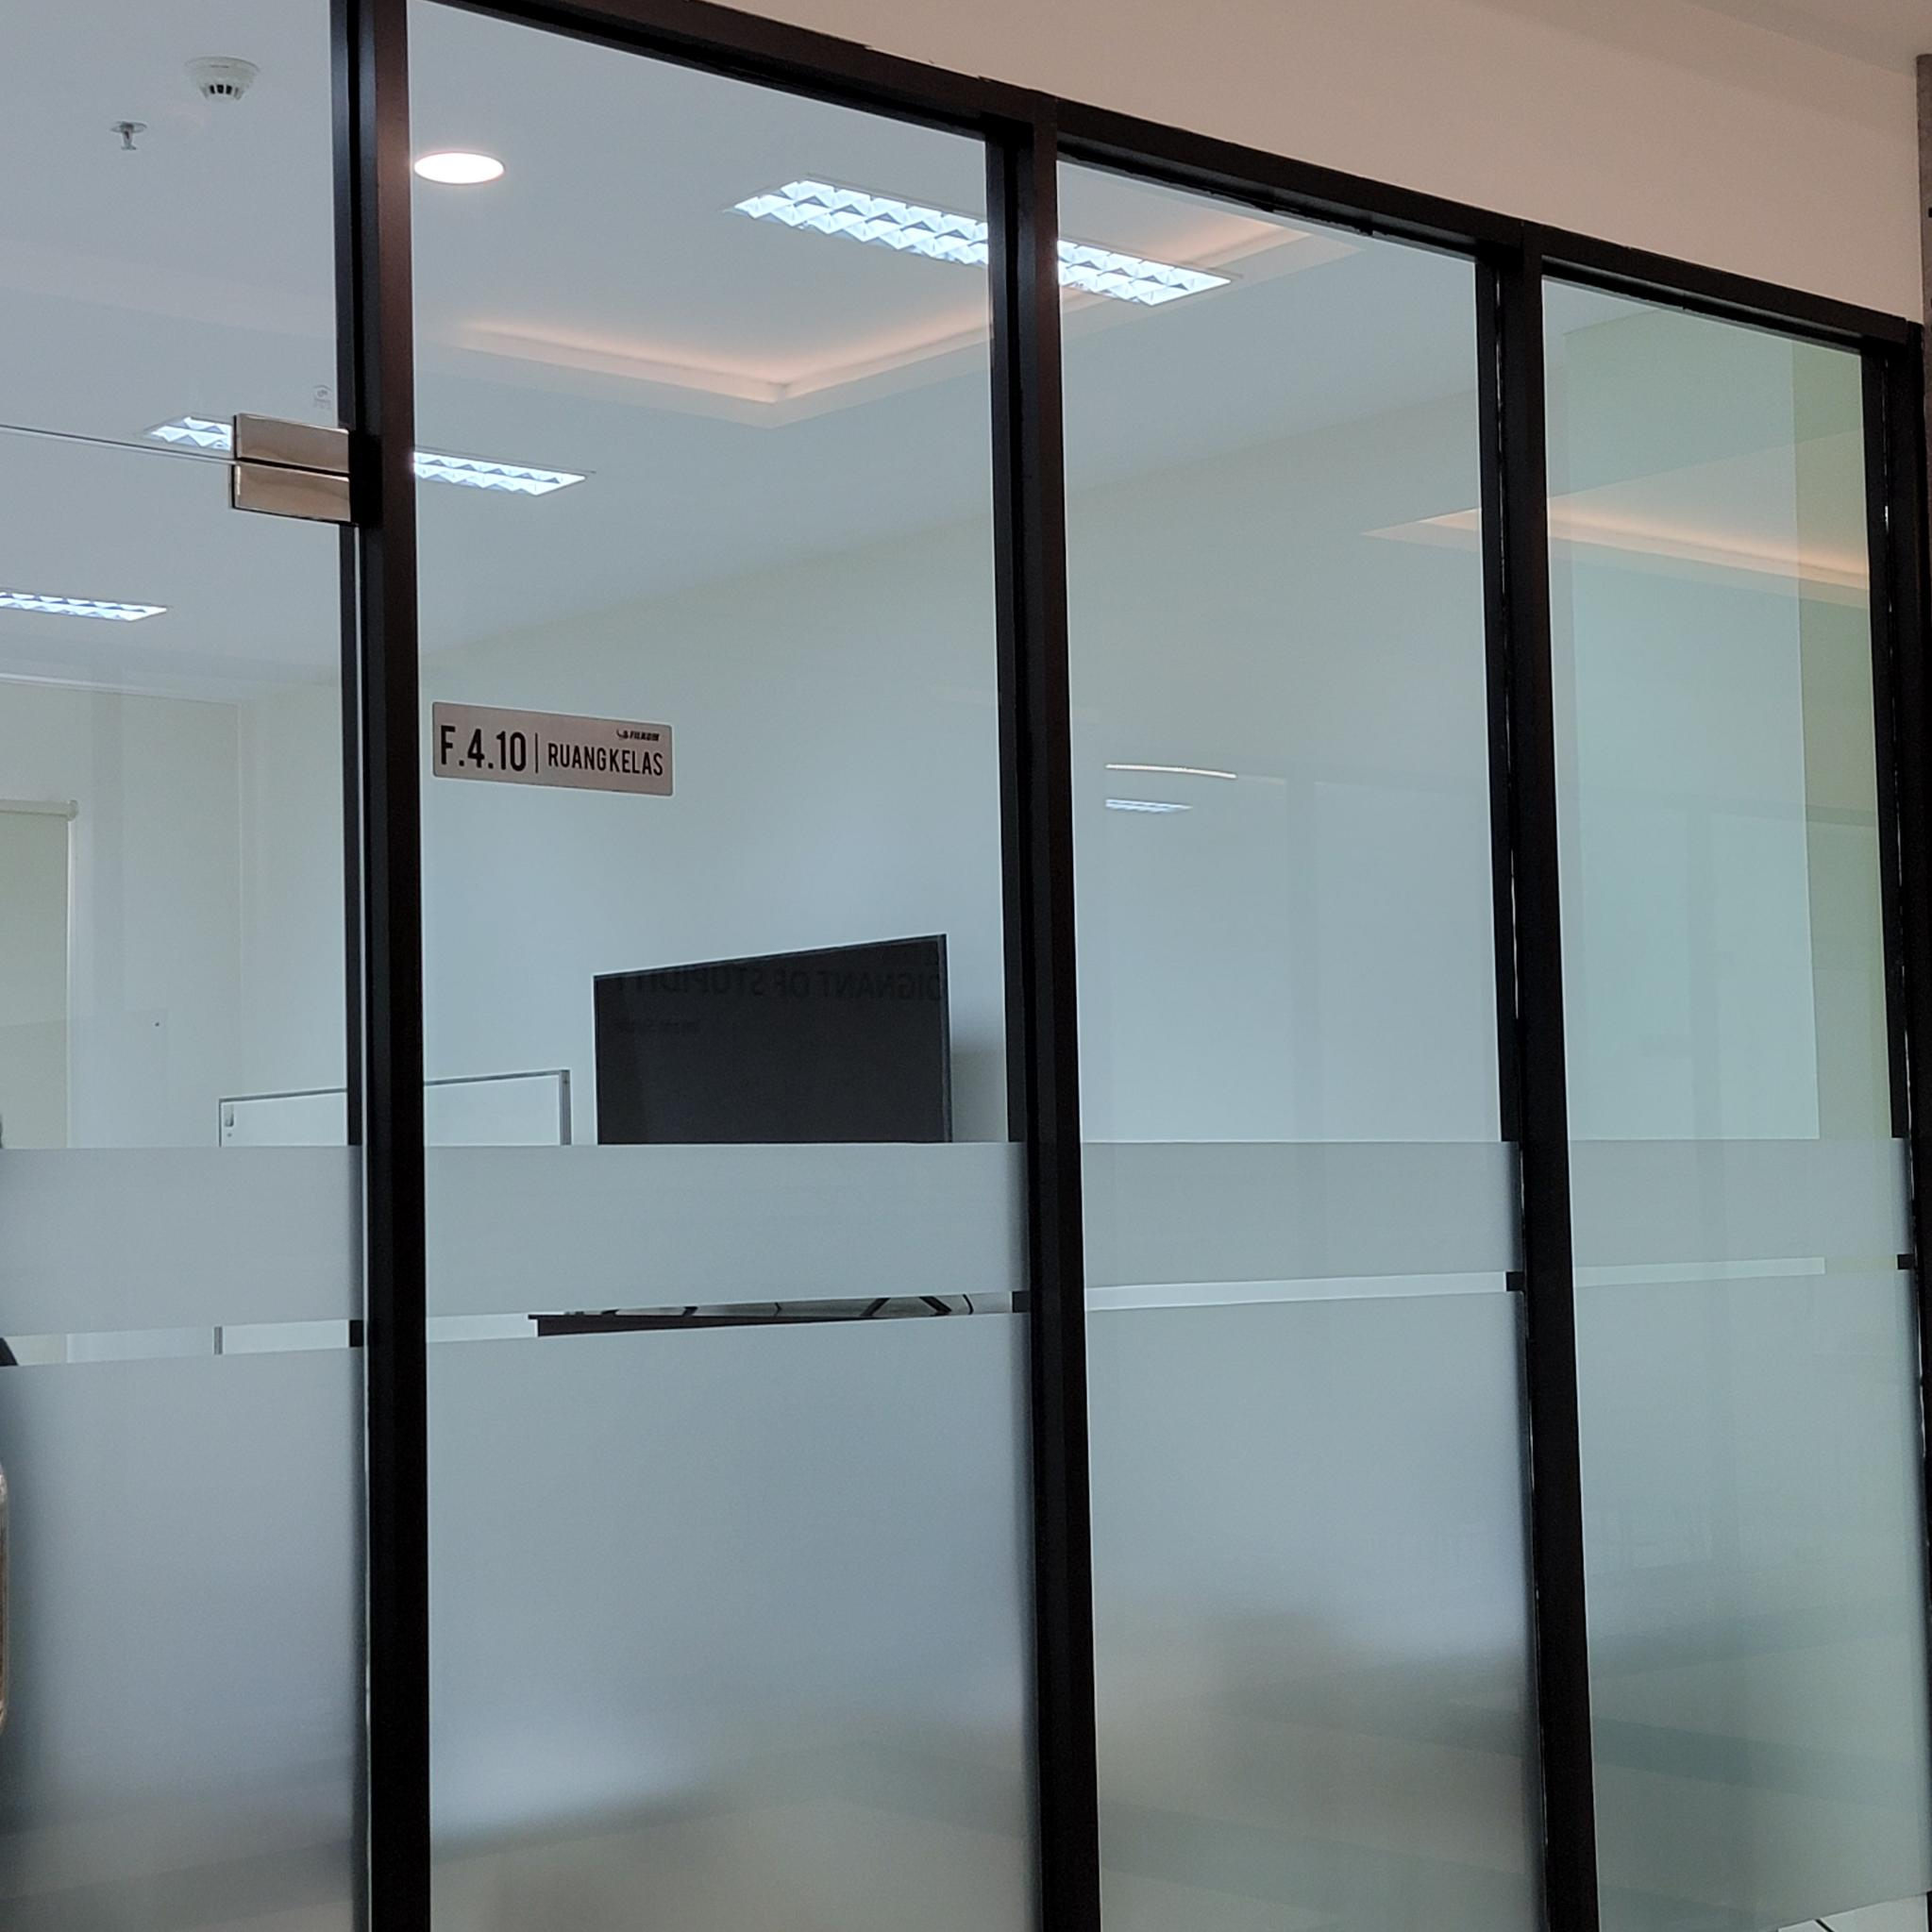plate: (433, 702, 672, 798)
